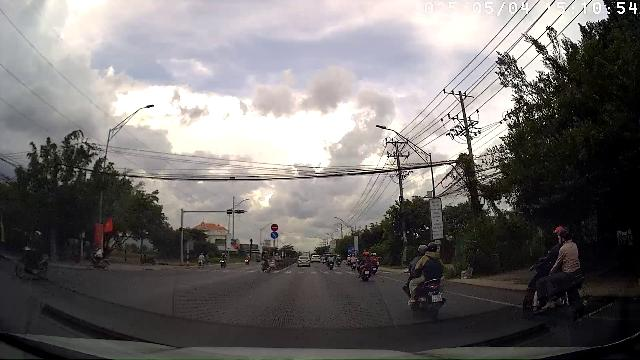102-cam-di-nguoc-chieu: (272, 224, 278, 230)
302a-huong-phai-di-vong-chuong-ngai-vat-1: (270, 231, 278, 239)
